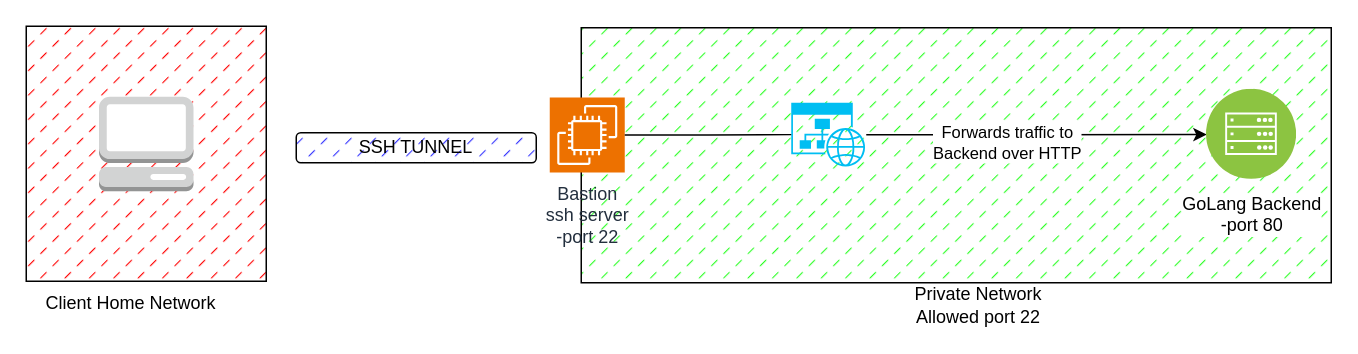
Some shapes in this 1358 by 354 pixel diagram are drawn without their labels. The centre of each missing label's shape, as x and y in pixels:
"Client -port 1234" goes at (146,143).
"NginX Frontend -port 80" goes at (828,134).
